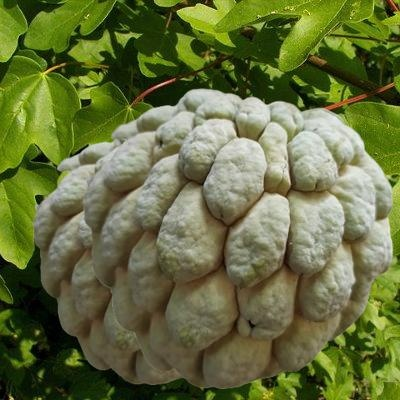atis: (82, 88, 392, 387), (32, 140, 182, 383)
